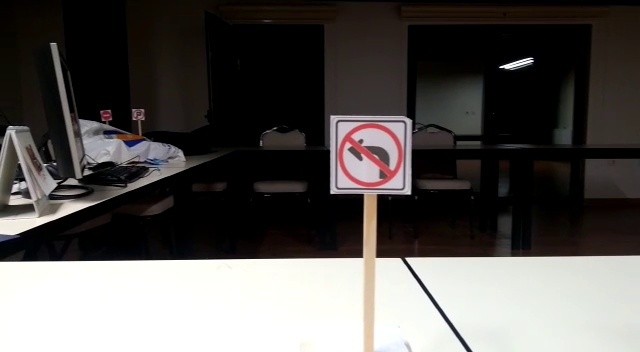sola_donulmez: (332, 120, 405, 192)
